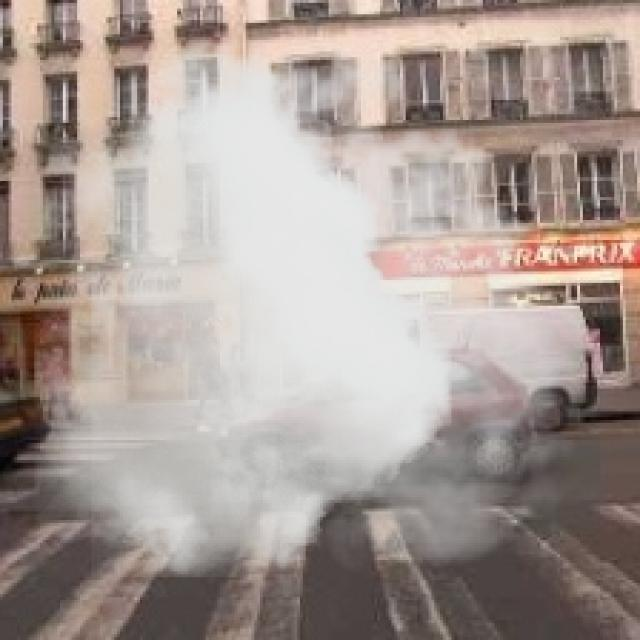smoke: (34, 20, 600, 577)
